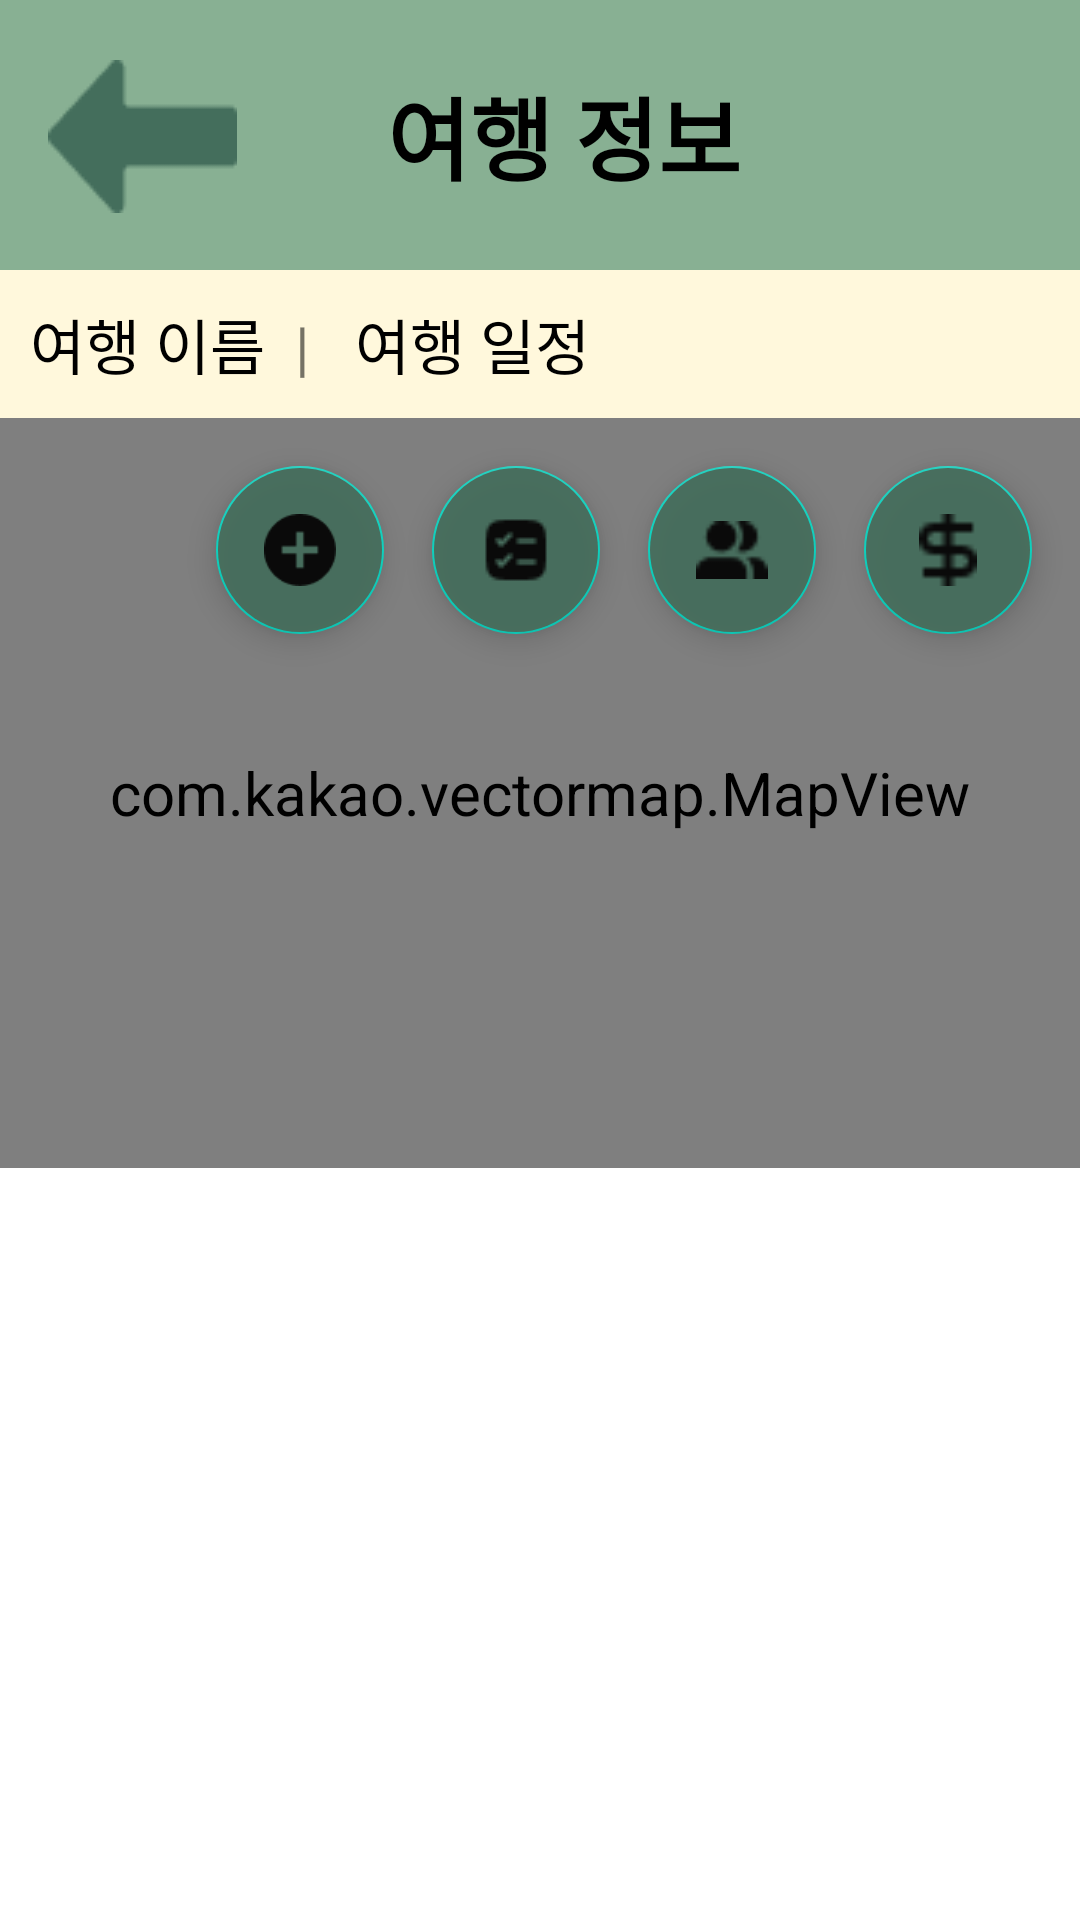

Icon click points for this 1080w x 1920h phone screenshot, format point (x, y):
back 버튼: point (142, 136)
checklist: point (516, 550)
team: point (732, 550)
일정 추가 버튼: point (300, 550)
정산하기: point (948, 550)
